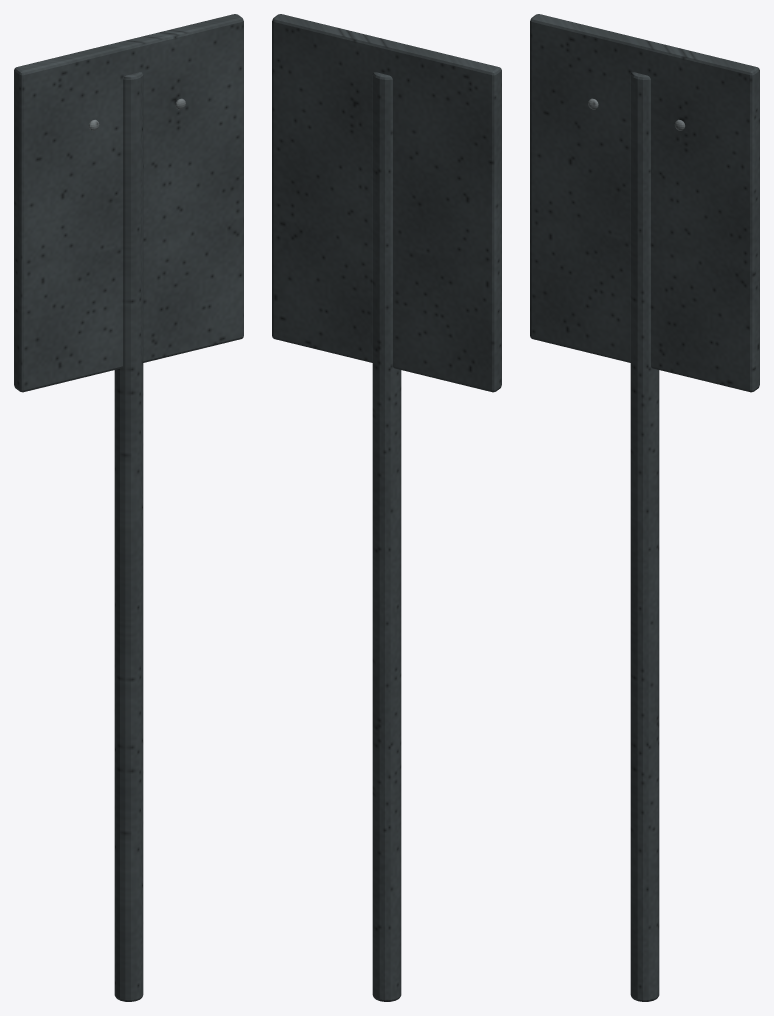
The model's file is PROP-EBB3495928BE_lod0.glb.
3 views of the same model, side by side, from view 1: azimuth 30°, elevation 25°; view 2: azimuth 150°, elevation 25°; view 3: azimuth 330°, elevation 25° (orthographic).
Parts seen in each view (by area): view 1: sign_plate.021, sign_post.028; view 2: sign_plate.021, sign_post.028; view 3: sign_plate.021, sign_post.028.
Part boxes in pixels (x1,y1,x2,y2): sign_plate.021: [14, 14, 243, 392]; sign_post.028: [114, 72, 143, 1001]; sign_plate.021: [272, 14, 501, 392]; sign_post.028: [372, 72, 401, 1001]; sign_plate.021: [530, 14, 759, 392]; sign_post.028: [630, 72, 659, 1001].
Size of the model in its own units: 0.62 by 2.52 by 0.083.
2 materials, 2 textured.
